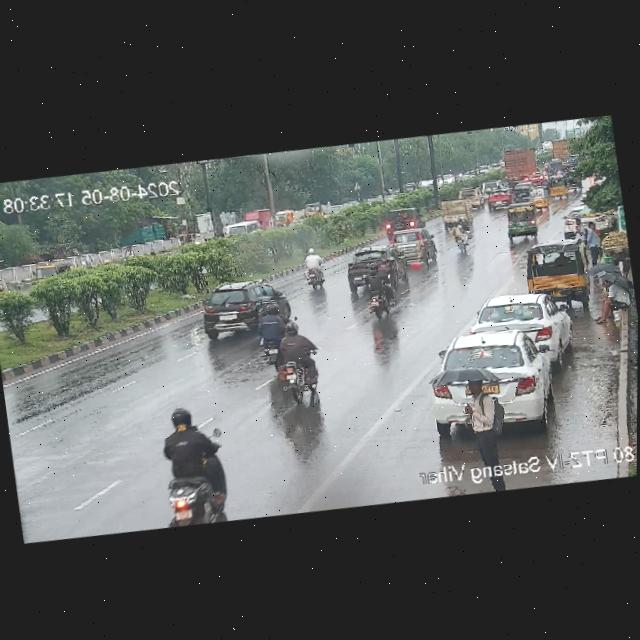car: (431, 324, 562, 433), (471, 290, 570, 364), (190, 277, 296, 345), (519, 237, 594, 308), (503, 199, 550, 242), (389, 227, 436, 269), (36, 257, 73, 288), (341, 259, 373, 294), (457, 186, 486, 209), (486, 188, 514, 209), (547, 176, 570, 201), (526, 186, 551, 208), (477, 177, 505, 193), (512, 181, 533, 200), (526, 168, 546, 187)
motorcycle: (152, 397, 234, 530), (262, 318, 326, 405), (354, 260, 400, 323), (298, 249, 330, 294), (449, 218, 471, 254), (543, 159, 565, 181)
person: (457, 376, 510, 462), (585, 273, 636, 329), (585, 219, 607, 265), (573, 217, 587, 242)
truck: (502, 145, 536, 184), (435, 196, 475, 229)
